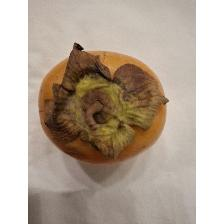Kaki: (33, 40, 171, 166)
